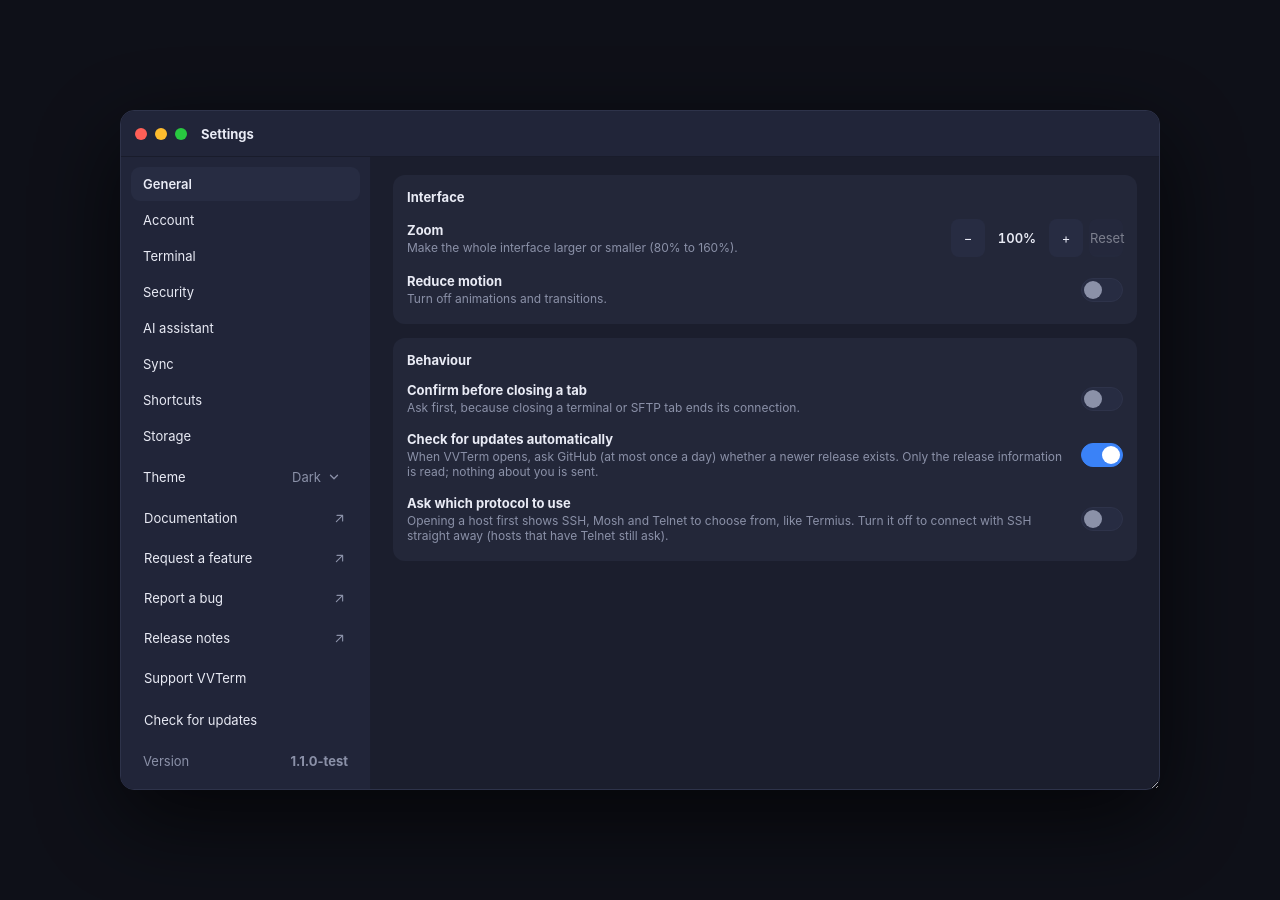
it: SettingsWindow › stepper stops at the limits
This screenshot has width=1280, height=900.
Step 1. Click the tab "Terminal" → (246, 256), box 131,239 -> 360,273
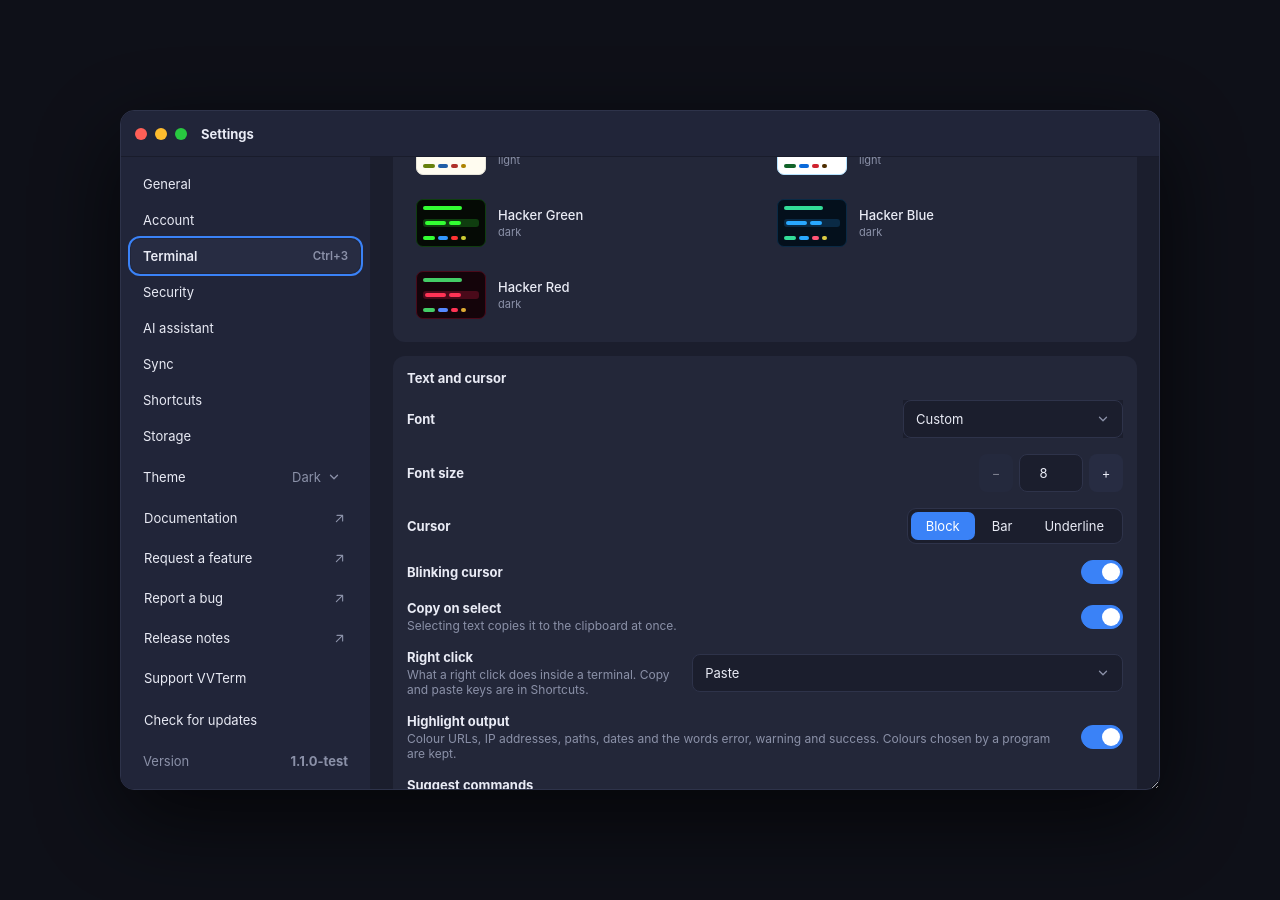
Expected: the button named "Decrease font size" is disabled, 979,454 -> 1013,492
